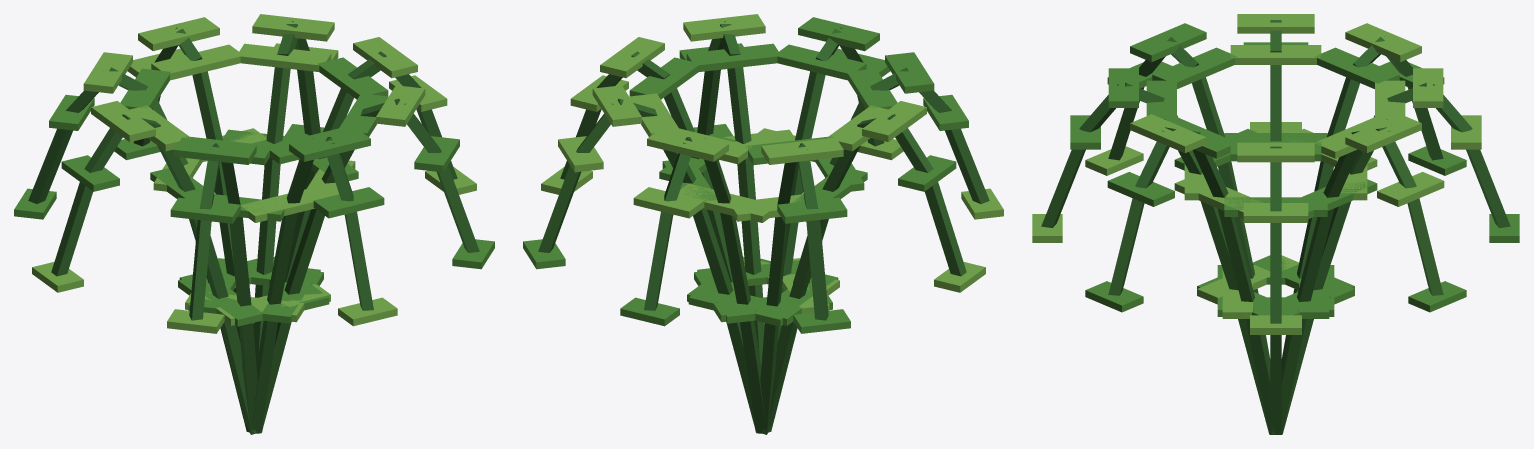
File: buisson_foret_1.glb
3 views of the same model, side by side, from view 1: azimuth 30°, elevation 25°; view 2: azimuth 150°, elevation 25°; view 3: azimuth 270°, elevation 25° (orthographic).
Visible parts, largest first — view 1: fougere_feuille_sombre.002, fougere_feuille.002, fougere_feuille_claire.002; view 2: fougere_feuille_sombre.002, fougere_feuille.002, fougere_feuille_claire.002; view 3: fougere_feuille_sombre.002, fougere_feuille_claire.002, fougere_feuille.002.
Boxes of the visible parts, x1,y1,x2,y2 form: fougere_feuille_sombre.002: [28, 21, 479, 434]; fougere_feuille.002: [14, 57, 494, 326]; fougere_feuille_claire.002: [32, 14, 476, 333]; fougere_feuille_sombre.002: [538, 21, 989, 434]; fougere_feuille.002: [523, 17, 968, 333]; fougere_feuille_claire.002: [541, 14, 1003, 313]; fougere_feuille_sombre.002: [1041, 20, 1510, 434]; fougere_feuille_claire.002: [1032, 14, 1481, 334]; fougere_feuille.002: [1070, 23, 1519, 318].
Size of the model in its own units: 0.64 by 0.5094 by 0.64.
